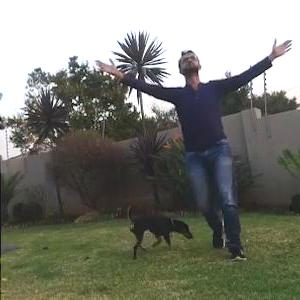takeoff: (120, 56, 282, 241)
